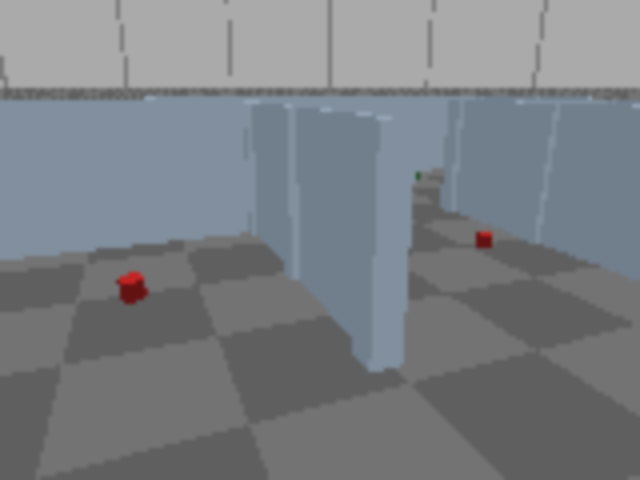puck: (121, 274, 144, 303), (476, 230, 491, 248)
